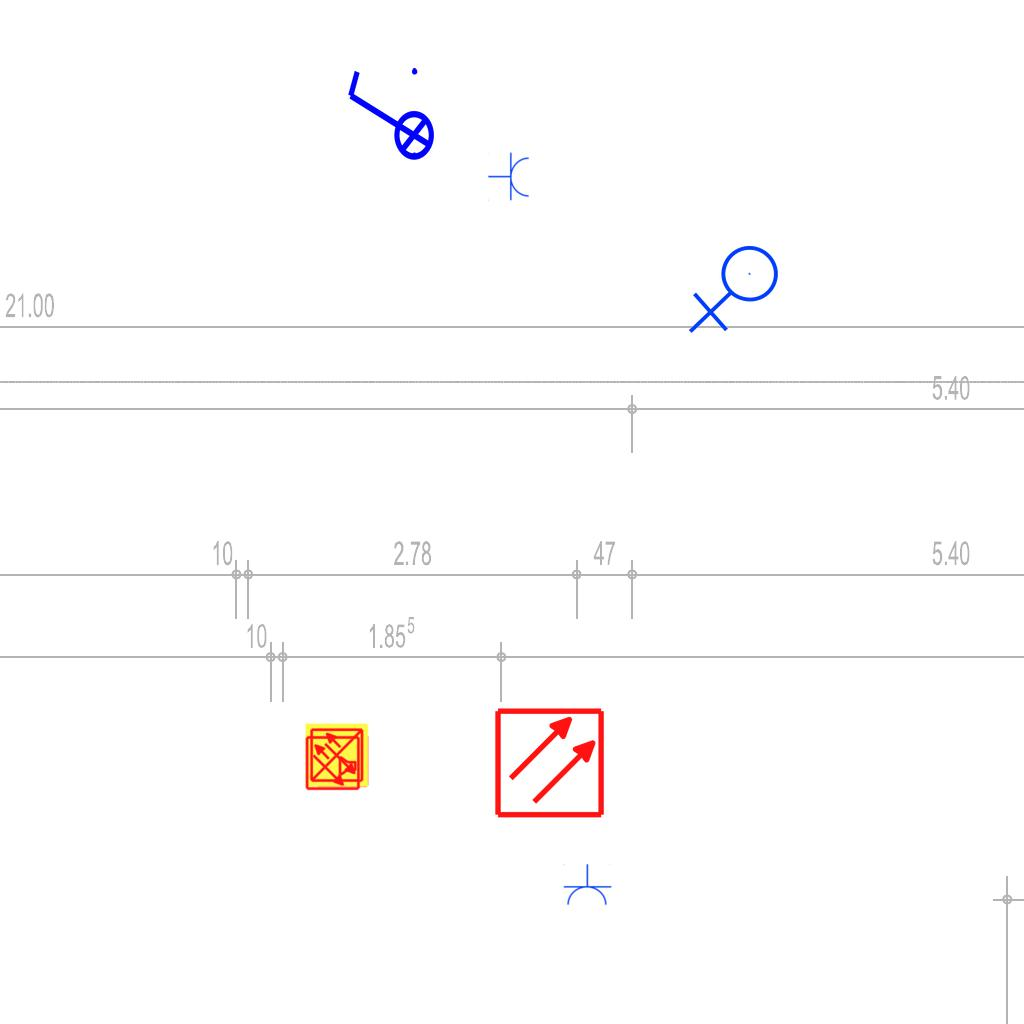Ausschalter_beleuchtet: (340, 62, 436, 174)
Elektroanschluss_allgemein_230V_Geraeteanschlussdose_230V: (688, 244, 787, 338)
OKW_Multisensormelder_(Kombination_optischer_Rauch-Kahlenmonoxid_Waerme-Melder): (304, 722, 370, 788)
RMO_Rauchmelder_optischer: (493, 706, 606, 819), (305, 735, 361, 791)
Schukosteckdose_einfach: (562, 864, 612, 907), (488, 152, 531, 202)
